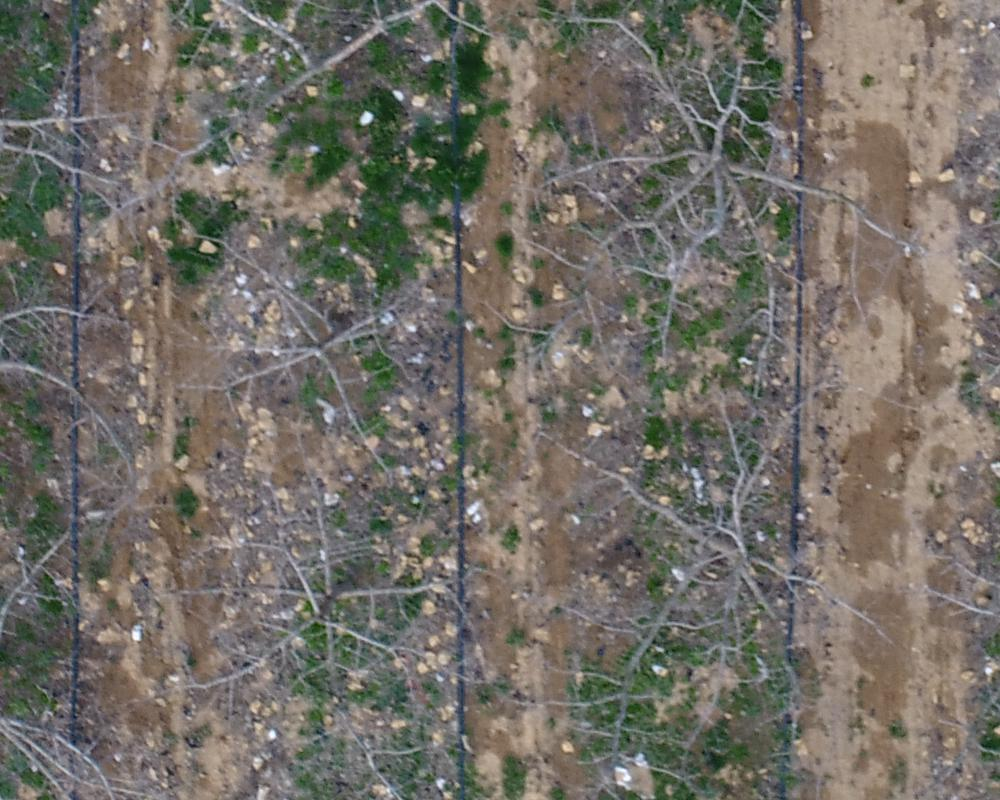apple: (569, 10, 893, 374), (529, 393, 879, 692), (182, 475, 520, 745), (157, 10, 531, 184), (187, 242, 447, 486)
